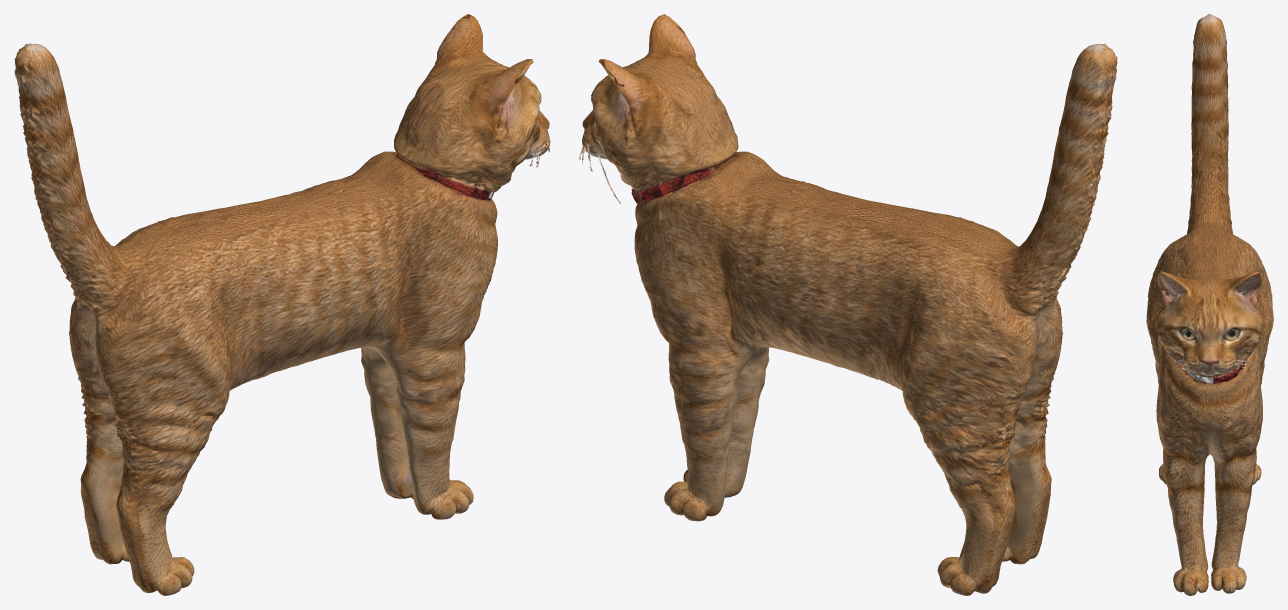
File: RIDOKUN.glb
The picture shows the model from 3 angles, left to right: view 1: azimuth 30°, elevation 25°; view 2: azimuth 150°, elevation 25°; view 3: azimuth 270°, elevation 25°; orthographic projection. The views are drawn at different scales.
Visible parts, largest first — view 1: tripo_node_065330f7-2fc1-47a5-a2f9-e6762075ba29; view 2: tripo_node_065330f7-2fc1-47a5-a2f9-e6762075ba29; view 3: tripo_node_065330f7-2fc1-47a5-a2f9-e6762075ba29.
Part boxes in pixels (x1=…): tripo_node_065330f7-2fc1-47a5-a2f9-e6762075ba29: x1=14, y1=14, x2=550, y2=595; tripo_node_065330f7-2fc1-47a5-a2f9-e6762075ba29: x1=579, y1=14, x2=1117, y2=595; tripo_node_065330f7-2fc1-47a5-a2f9-e6762075ba29: x1=1146, y1=14, x2=1273, y2=595.
Bounding box in the file's own units: 0.9989 × 0.9995 × 0.2715.
1 material, 1 textured.
